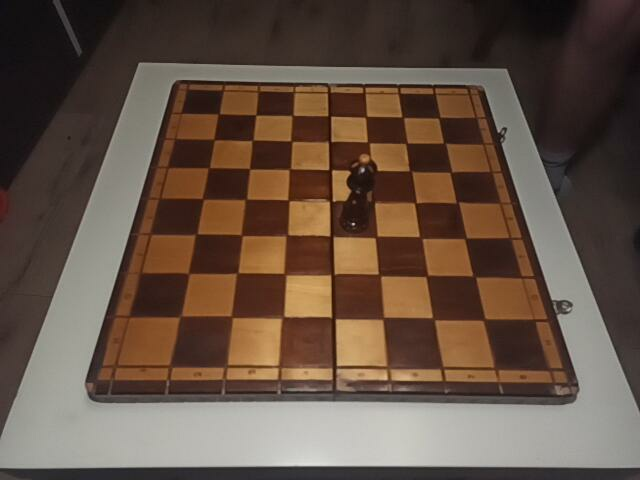B-Queen: (339, 154, 378, 232)
